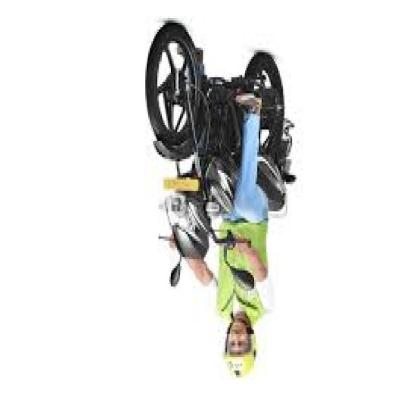bike: (143, 22, 297, 258)
